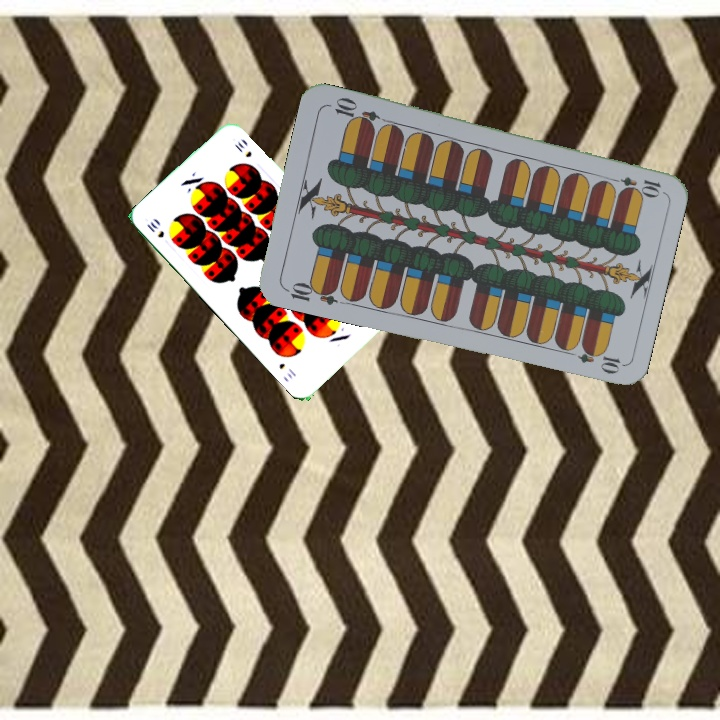E10: (281, 278, 340, 308), (604, 172, 663, 197)
S10: (143, 218, 167, 240)
